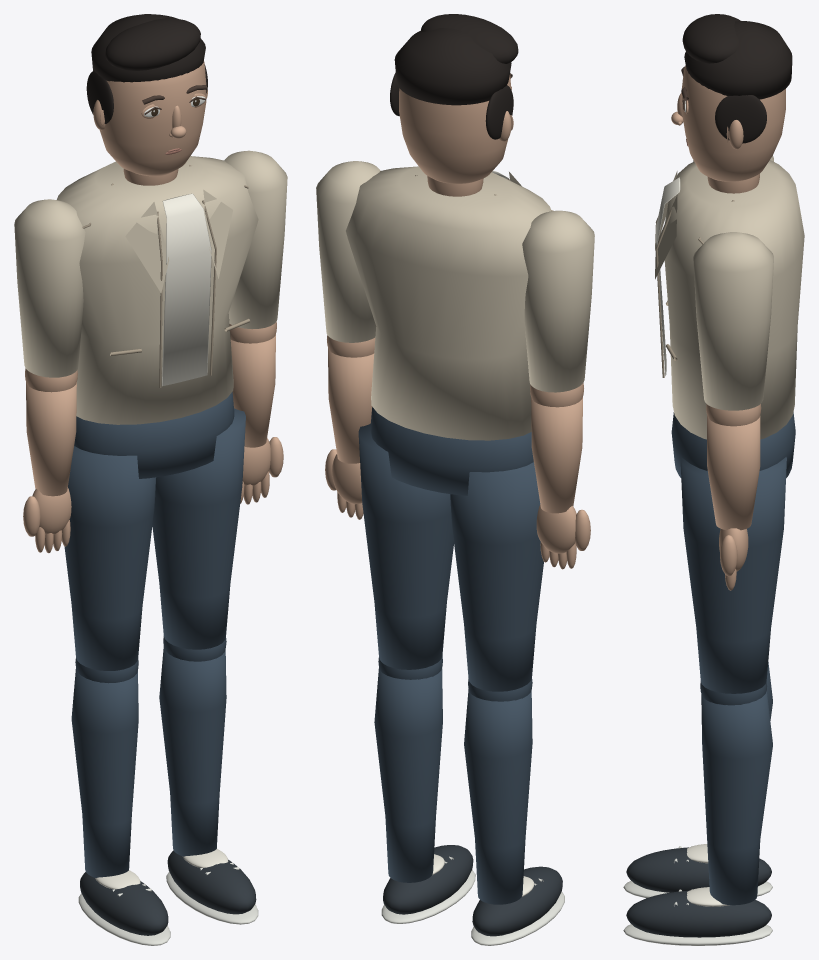
File: npc_man.glb
3 views of the same model, side by side, from view 1: azimuth 30°, elevation 25°; view 2: azimuth 150°, elevation 25°; view 3: azimuth 270°, elevation 25° (orthographic). The views are drawn at different scales.
Parts seen in each view (by area): view 1: Torso_civilian_clothes, trouser thigh, trouser thigh.001, LowerLeg_R_pants, LowerLeg_L_pants, sleeve, Head_skin, visible inner tee, LowerArm_L_skin, Head_hair, sleeve.001, trouser waist (+6 smaller); view 2: Torso_civilian_clothes, trouser thigh, trouser thigh.001, LowerLeg_R_pants, LowerLeg_L_pants, sleeve, Head_hair, LowerArm_L_skin, sleeve.001, Head_skin, trouser waist, LowerArm_R_skin (+5 smaller); view 3: Torso_civilian_clothes, trouser thigh.001, LowerLeg_R_pants, sleeve.001, Head_hair, LowerArm_R_skin, Head_skin, sneaker upper.001, sneaker upper, trouser waist, Foot_R_sole, visible inner tee (+4 smaller).
Part boxes in pixels (x1,y1,x2,y2): Torso_civilian_clothes: (57, 156, 258, 424); trouser thigh: (64, 446, 156, 670); trouser thigh.001: (152, 408, 245, 649); LowerLeg_R_pants: (159, 636, 226, 856); LowerLeg_L_pants: (71, 658, 138, 877); sleeve: (14, 199, 85, 377); Head_skin: (93, 61, 206, 176); visible inner tee: (162, 193, 211, 386); LowerArm_L_skin: (23, 368, 77, 553); Head_hair: (86, 14, 207, 123); sleeve.001: (224, 150, 287, 329); trouser waist: (74, 392, 234, 478); Torso_civilian_clothes: (346, 166, 551, 440); trouser thigh: (450, 462, 543, 691); trouser thigh.001: (358, 423, 453, 669); LowerLeg_R_pants: (374, 656, 442, 882); LowerLeg_L_pants: (464, 678, 532, 904); sleeve: (522, 210, 594, 392); Head_hair: (390, 14, 518, 139); LowerArm_L_skin: (530, 383, 590, 569); sleeve.001: (316, 161, 380, 342); Head_skin: (399, 75, 511, 183); trouser waist: (370, 407, 533, 495); LowerArm_R_skin: (325, 335, 375, 519); Torso_civilian_clothes: (655, 160, 804, 439); trouser thigh.001: (680, 456, 786, 693); LowerLeg_R_pants: (700, 681, 772, 905); sleeve.001: (693, 232, 773, 410); Head_hair: (682, 14, 792, 143); LowerArm_R_skin: (706, 404, 761, 590); Head_skin: (671, 65, 785, 181); sneaker upper.001: (626, 890, 771, 937); sneaker upper: (626, 847, 771, 892); trouser waist: (671, 412, 795, 478); Foot_R_sole: (623, 889, 772, 945); visible inner tee: (656, 177, 680, 375).
Bounding box in the file's own units: 0.5518 × 1.78 × 0.3275.
